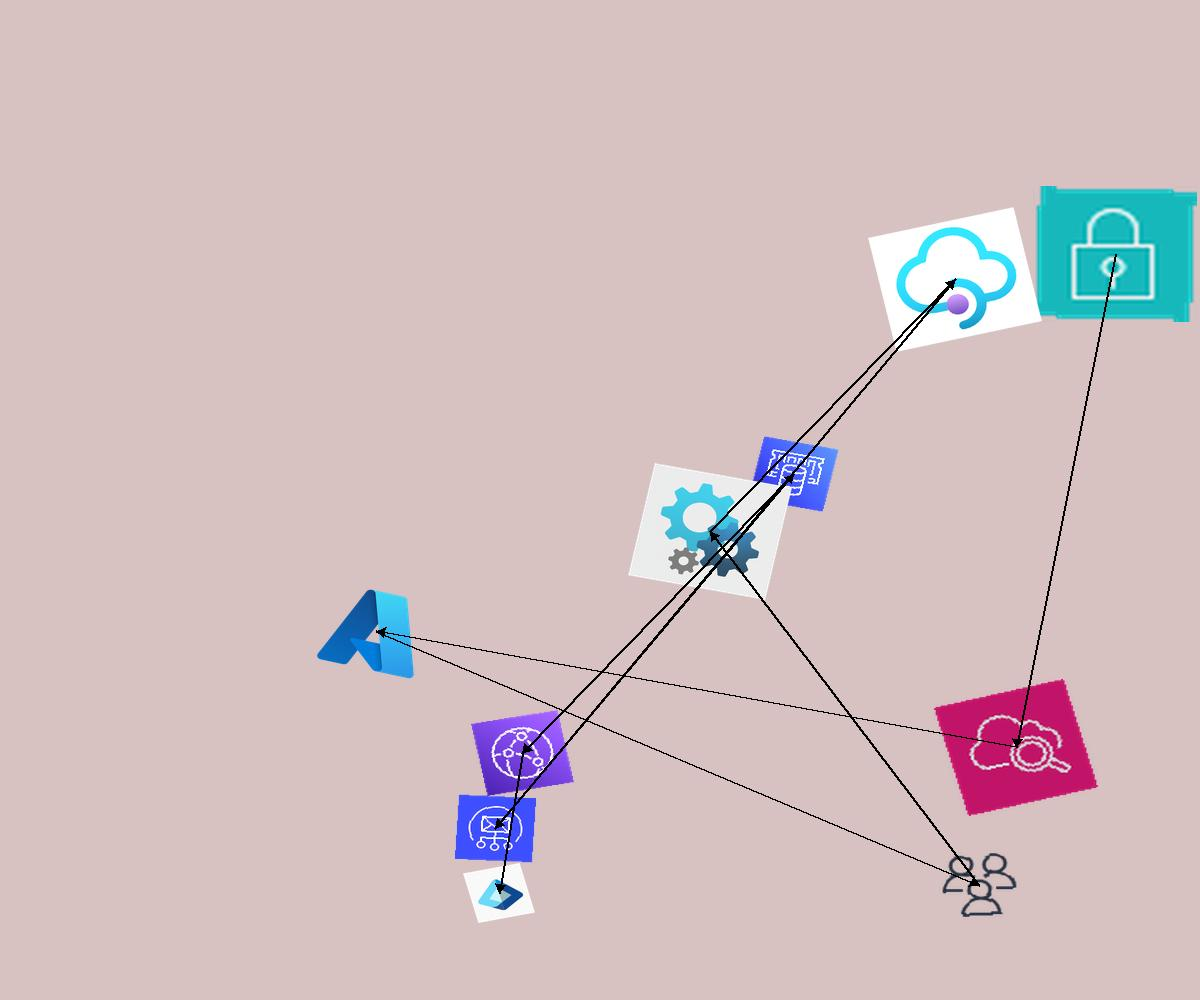AWS-CloudFront: (471, 710, 574, 796)
AWS-CloudWatch: (934, 679, 1098, 816)
AWS-ElastiCache: (748, 436, 839, 512)
AWS-Private-subnet: (1033, 186, 1197, 322)
AWS-Res_Users: (936, 849, 1023, 921)
AWS-Simple-Email-Service: (454, 794, 537, 863)
Azure_api: (628, 463, 792, 600)
Azure_api_gateway: (868, 207, 1042, 352)
Azure_microsoft_entra: (463, 863, 535, 923)
Azure_services: (310, 576, 442, 686)
